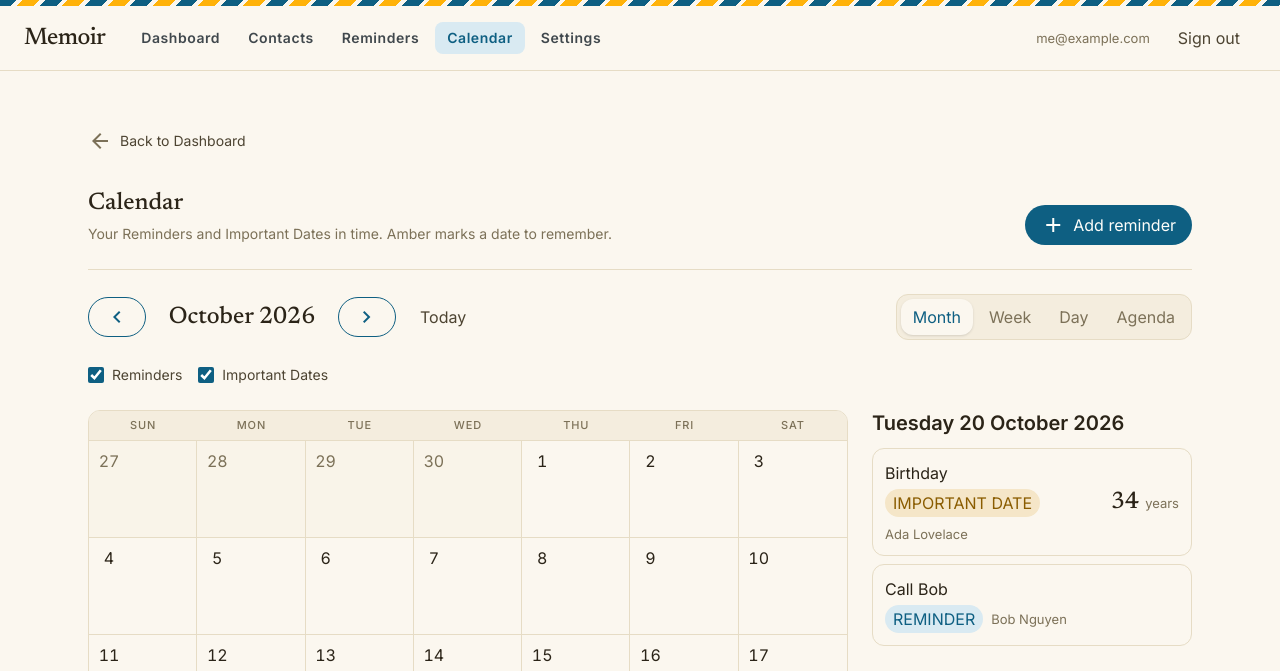
Test: Add reminder from the Calendar › asks who the Reminder is for
The width and height of the screenshot is (1280, 671).
Click the button "Add reminder" at {"x": 1109, "y": 225}, box [1025,205,1192,245]
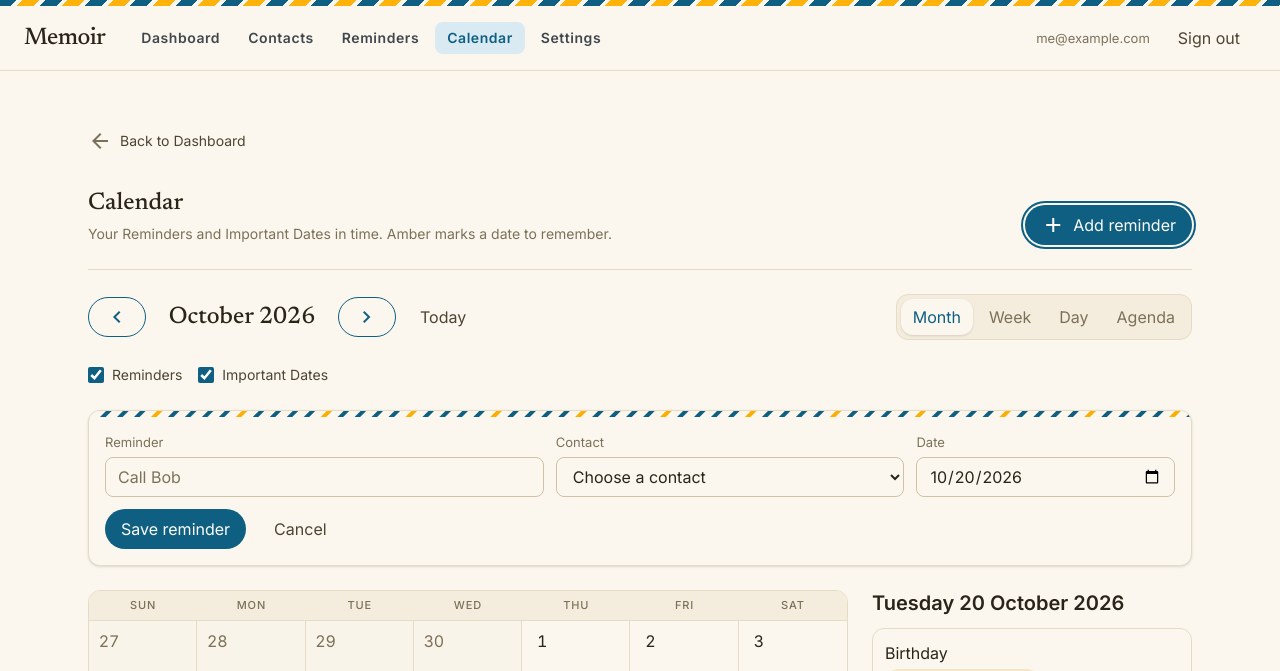
Type "Call someone" into the field labelled "Reminder" at {"x": 324, "y": 477}, box [105,457,544,497]
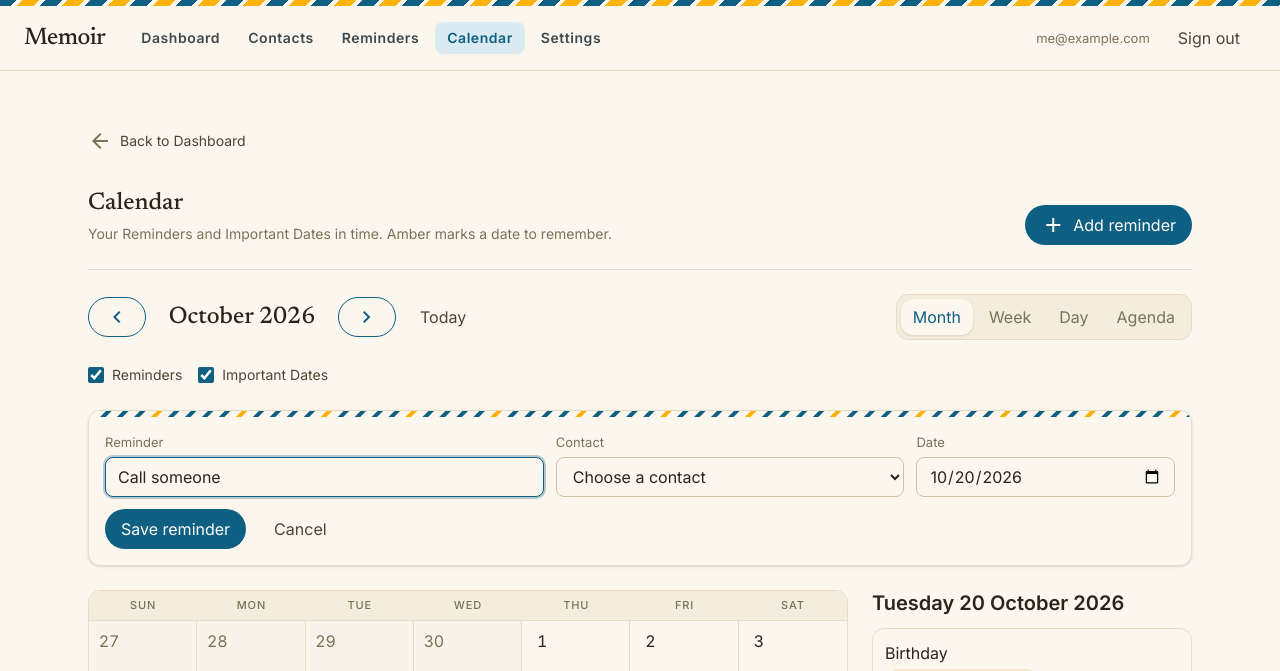
Click the button "Save reminder" at {"x": 176, "y": 529}, box [105,509,246,549]
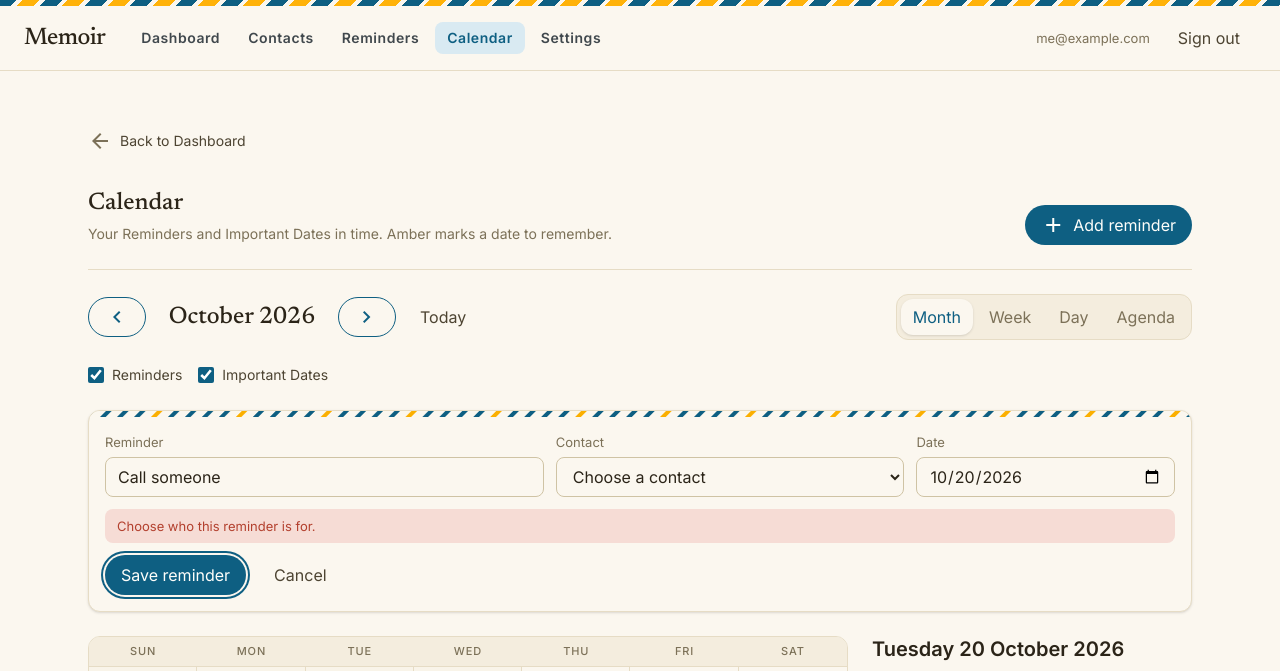
Result: the text "Choose who this reminder is for." is shown at [105,509,1175,543]
